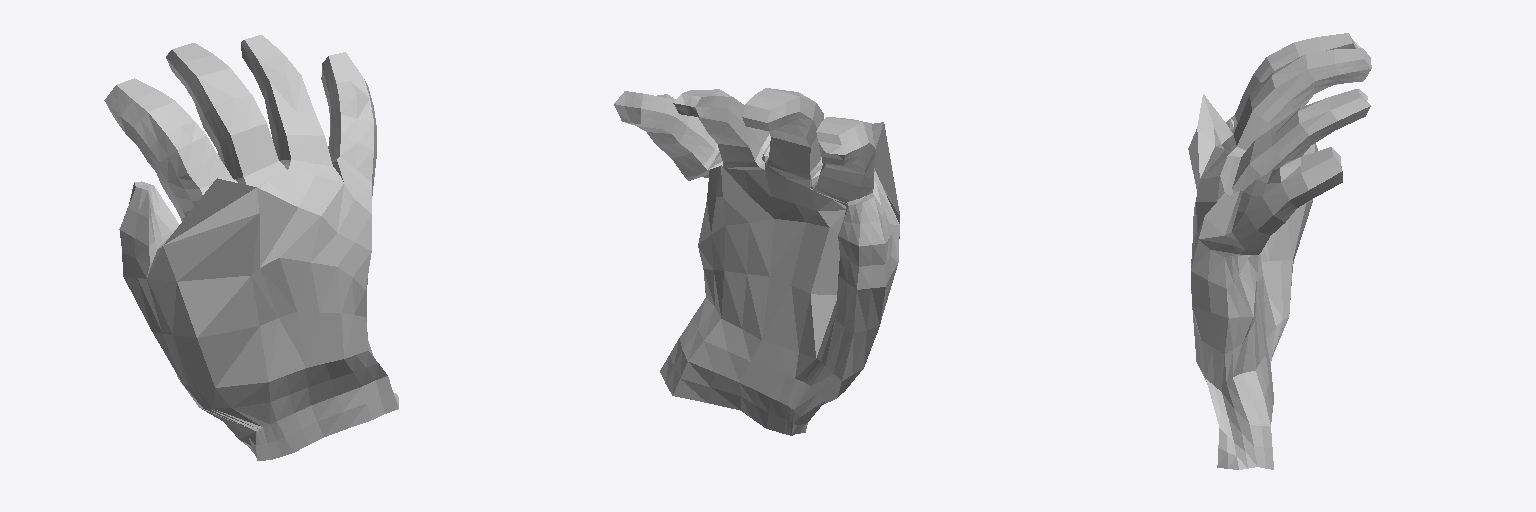
Rendered from hand_sub2_triang0029.obj.
The picture shows the model from 3 angles: view 1: azimuth 30°, elevation 25°; view 2: azimuth 150°, elevation 25°; view 3: azimuth 270°, elevation 25°; orthographic projection.
Parts seen in each view (by area): view 1: Hand; view 2: Hand; view 3: Hand.
Boxes of the visible parts, x1,y1,x2,y2 form: Hand: [104, 35, 398, 460]; Hand: [614, 88, 899, 435]; Hand: [1188, 33, 1371, 469].
Bounding box in the file's own units: 2.94 × 4.15 × 1.84.